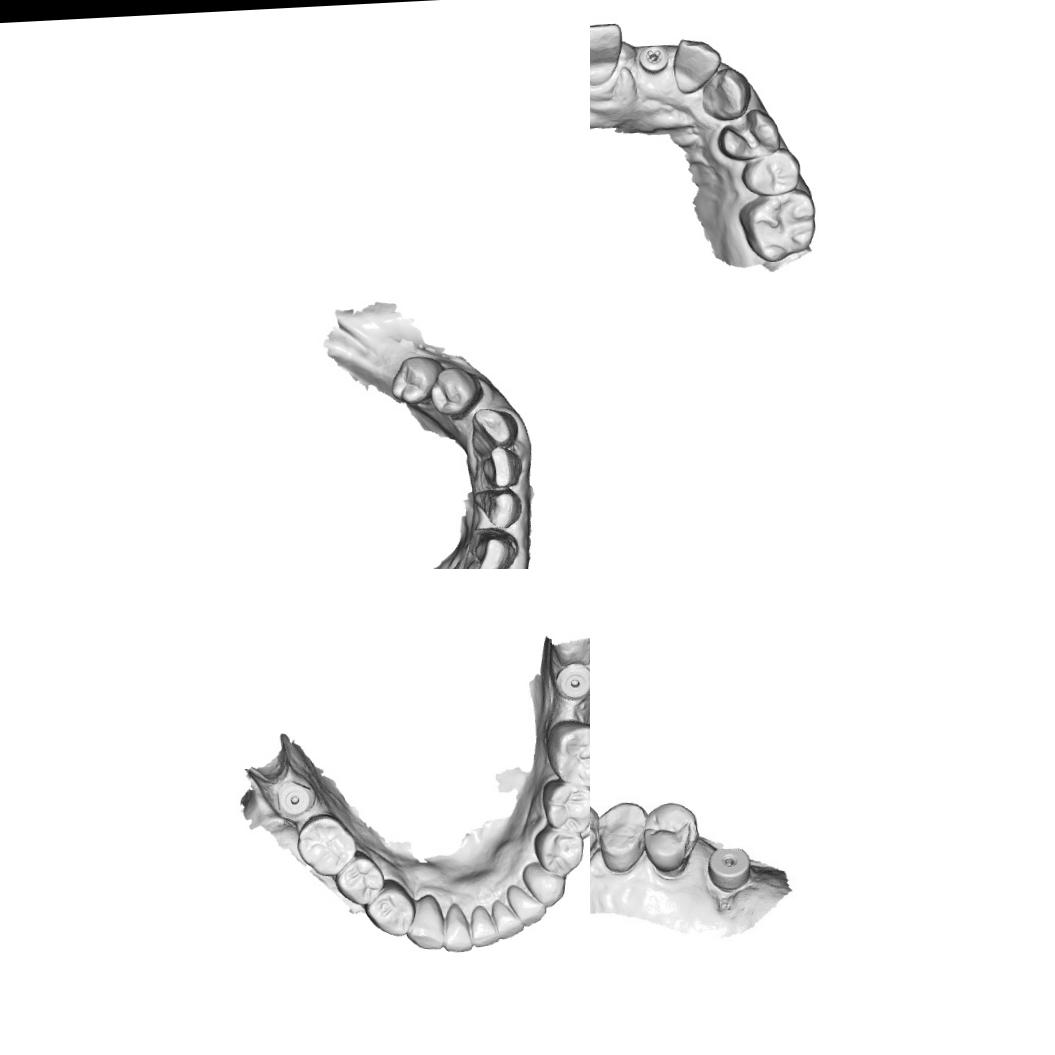canine: (698, 65, 754, 122), (468, 405, 520, 456), (404, 892, 446, 950), (520, 859, 566, 908), (459, 553, 512, 569)
implant: (706, 845, 749, 887), (552, 660, 590, 701), (276, 778, 316, 816)
implant_plus: (636, 44, 668, 74)
incisor: (670, 36, 723, 94), (468, 524, 521, 569), (471, 486, 523, 530), (590, 20, 624, 86), (479, 443, 523, 489), (505, 881, 547, 926), (440, 900, 473, 954), (490, 898, 524, 940), (469, 902, 500, 948)
inlay: (720, 106, 771, 154)
molar: (738, 192, 818, 260), (293, 812, 359, 878), (542, 716, 590, 787), (539, 773, 590, 834)
premolar: (640, 798, 700, 877), (594, 800, 646, 873), (362, 878, 416, 938), (428, 364, 484, 421), (531, 820, 586, 878), (738, 147, 802, 196), (388, 352, 446, 405), (333, 850, 385, 907)
